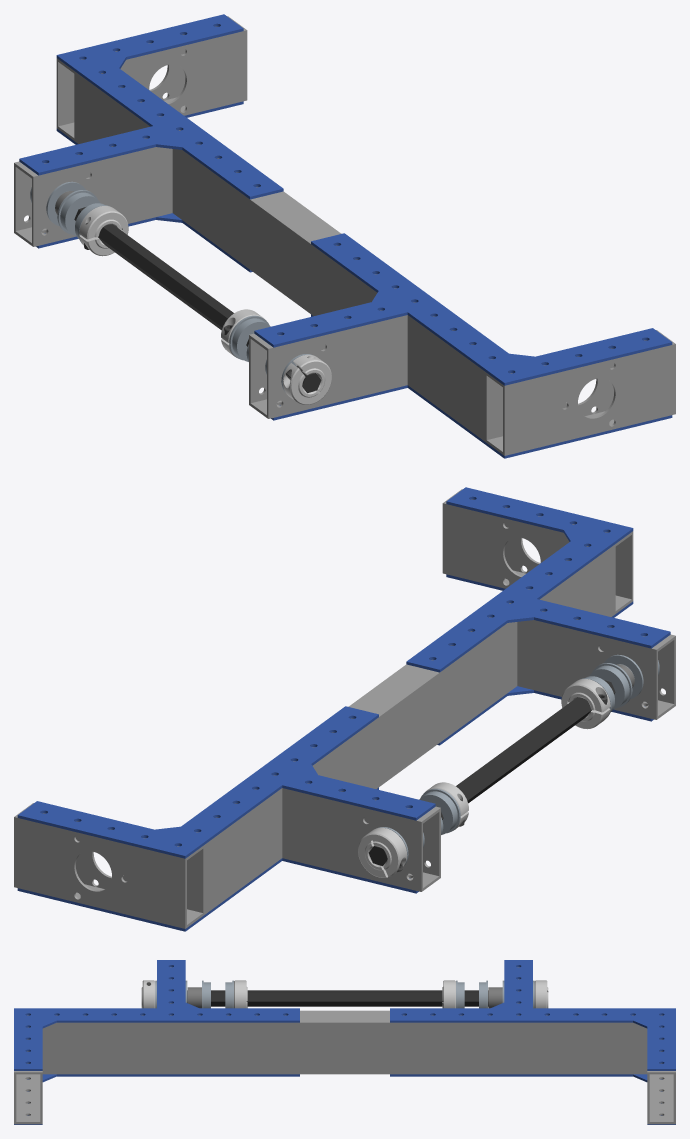
3 views of the same model, one above another, from view 1: azimuth 30°, elevation 25°; view 2: azimuth 150°, elevation 25°; view 3: azimuth 270°, elevation 25° (orthographic). The views are drawn at different scales.
Parts seen in each view (by area): view 1: L plate 5*5 inch v4 (×5), Tube 2"x1"x21.142", Tube 2"x1"x5.112" (×2), Tube 2"x1"x4.156" (×2), Shaft, am-1238a 500Hex Collar Clamp Body (×2), .5" Hex ID 1.125" OD Flanged Bearing (217-2734) (×2); view 2: L plate 5*5 inch v4 (×5), Tube 2"x1"x21.142", Tube 2"x1"x5.112" (×2), Tube 2"x1"x4.156" (×2), Shaft, am-1238a 500Hex Collar Clamp Body (×2), .5" Hex ID 1.125" OD Flanged Bearing (217-2734) (×2); view 3: Tube 2"x1"x21.142", L plate 5*5 inch v4 (×8), Shaft, Tube 2"x1"x5.112" (×2), am-1238a 500Hex Collar Clamp Body (×4), 1/2" 1/2" Hex Acetal Spacer (217-3261) (×2).
Part boxes in pixels (box(x1,y1,x2,y2)): L plate 5*5 inch v4 (×5): box(19, 14, 672, 458); Tube 2"x1"x21.142": box(76, 72, 493, 441); Tube 2"x1"x5.112" (×2): box(56, 16, 675, 455); Tube 2"x1"x4.156" (×2): box(14, 138, 407, 418); Shaft: box(74, 207, 321, 393); am-1238a 500Hex Collar Clamp Body (×2): box(79, 206, 331, 404); .5" Hex ID 1.125" OD Flanged Bearing (217-2734) (×2): box(57, 190, 270, 361); L plate 5*5 inch v4 (×5): box(17, 487, 670, 931); Tube 2"x1"x21.142": box(196, 545, 613, 914); Tube 2"x1"x5.112" (×2): box(14, 489, 633, 928); Tube 2"x1"x4.156" (×2): box(282, 611, 675, 891); Shaft: box(368, 680, 615, 866); am-1238a 500Hex Collar Clamp Body (×2): box(358, 679, 610, 877); .5" Hex ID 1.125" OD Flanged Bearing (217-2734) (×2): box(419, 663, 632, 834); Tube 2"x1"x21.142": box(42, 1010, 647, 1074); L plate 5*5 inch v4 (×8): box(14, 960, 675, 1124); Shaft: box(187, 990, 488, 1006); Tube 2"x1"x5.112" (×2): box(14, 1015, 675, 1124); am-1238a 500Hex Collar Clamp Body (×4): box(141, 980, 548, 1008); 1/2" 1/2" Hex Acetal Spacer (217-3261) (×2): box(187, 987, 502, 1008).
Size of the model in its own units: 0.2354 by 0.0548 by 0.5878.
